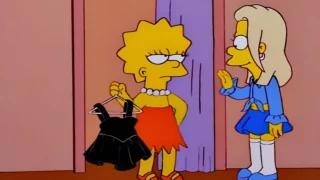Lisa: (104, 14, 204, 180)
